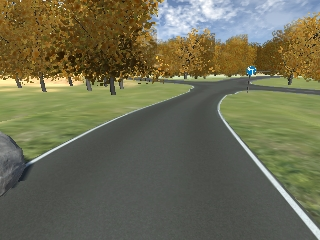left: (246, 66, 255, 76)
